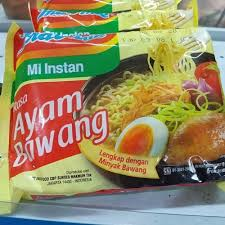Indomie Ayam Bawang (69g): (4, 16, 224, 189)
